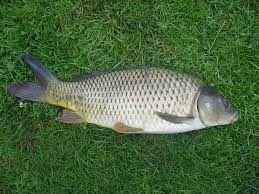Grass Carp: (9, 52, 241, 136)
